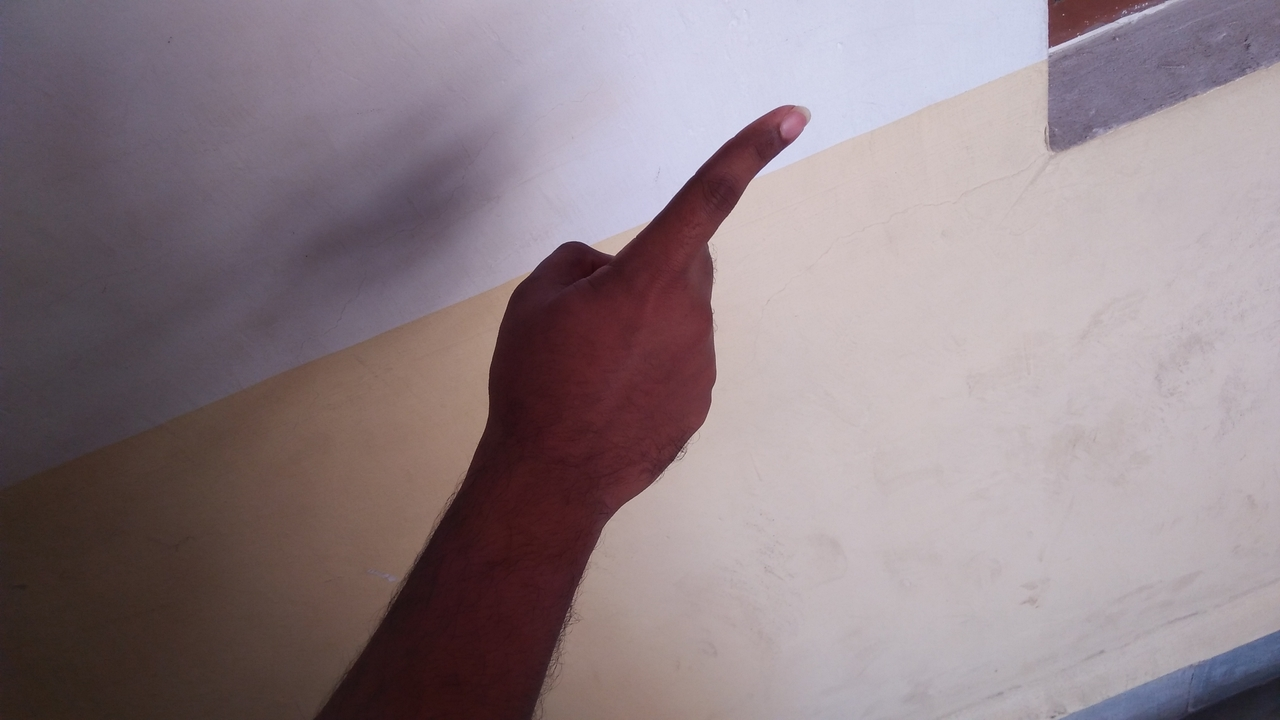fingertip: (748, 98, 818, 148)
